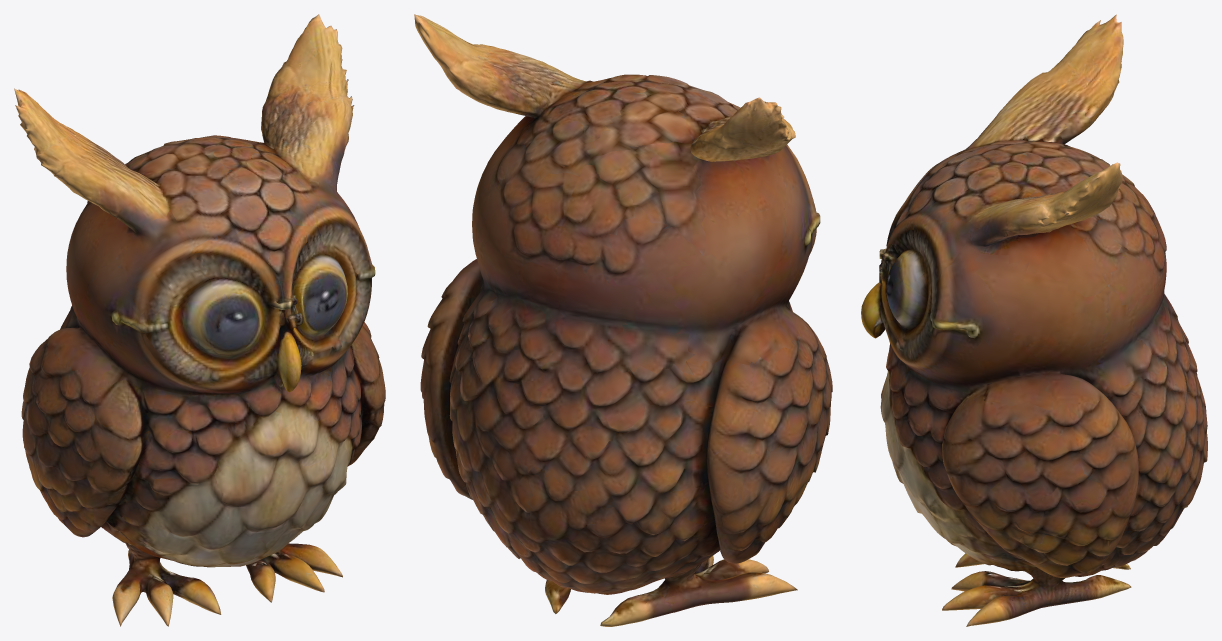
3 views of the same model, side by side, from view 1: azimuth 30°, elevation 25°; view 2: azimuth 150°, elevation 25°; view 3: azimuth 270°, elevation 25° (orthographic). The views are drawn at different scales.
Bounding box in the file's own units: 1.35 × 1.99 × 1.27.
Materials: 1 (1 with a texture image).
